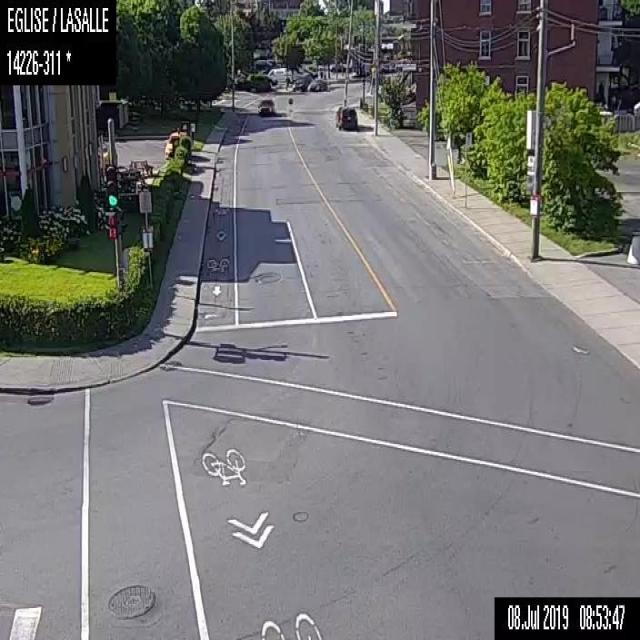vehicle: (335, 104, 357, 128), (265, 68, 291, 88), (256, 96, 276, 116), (292, 72, 312, 91), (307, 78, 328, 93)
